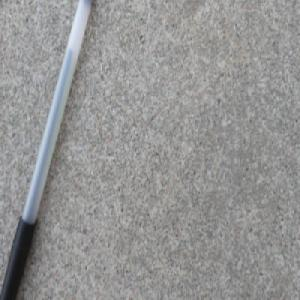Pen: (0, 0, 94, 300)
